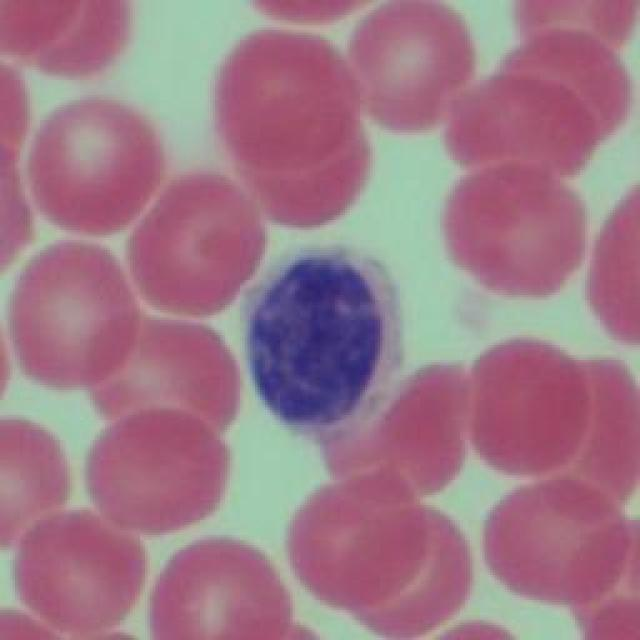RBC: (318, 357, 472, 505), (214, 27, 361, 175), (9, 240, 141, 392), (440, 165, 585, 300), (128, 178, 264, 318), (32, 98, 166, 240), (89, 318, 239, 438), (290, 475, 428, 605), (87, 412, 235, 532), (239, 96, 371, 229), (484, 480, 626, 602), (465, 336, 590, 474), (345, 506, 473, 636), (531, 359, 639, 511), (358, 6, 480, 139), (18, 506, 148, 629), (496, 31, 634, 144), (450, 74, 598, 178), (149, 535, 291, 637), (0, 416, 72, 553), (565, 520, 640, 638), (590, 184, 640, 344), (34, 0, 131, 78), (512, 0, 638, 58), (0, 0, 90, 60), (0, 166, 30, 276), (0, 62, 35, 156), (252, 1, 360, 29), (0, 607, 62, 640)
WBC: (241, 245, 404, 443)
